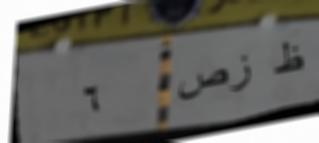6: (80, 83, 102, 112)
Thaa: (272, 36, 307, 80)
saad: (172, 67, 227, 103)
zay: (229, 53, 255, 98)
